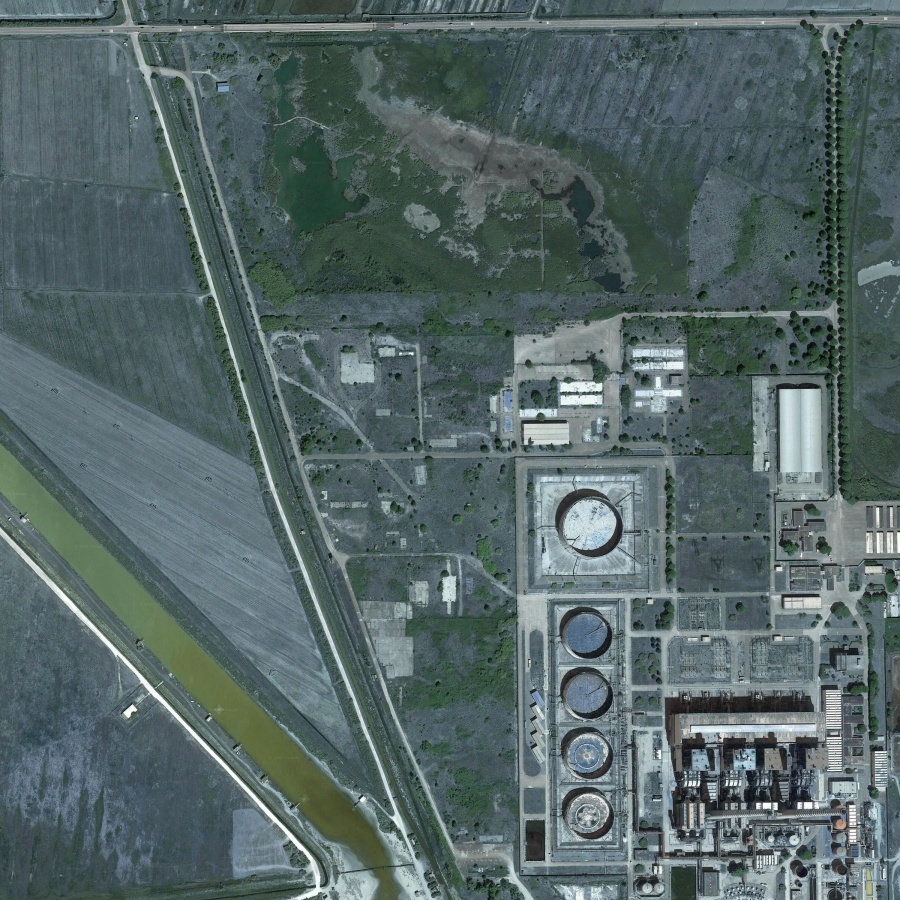PowerPlant: (512, 458, 662, 873)
